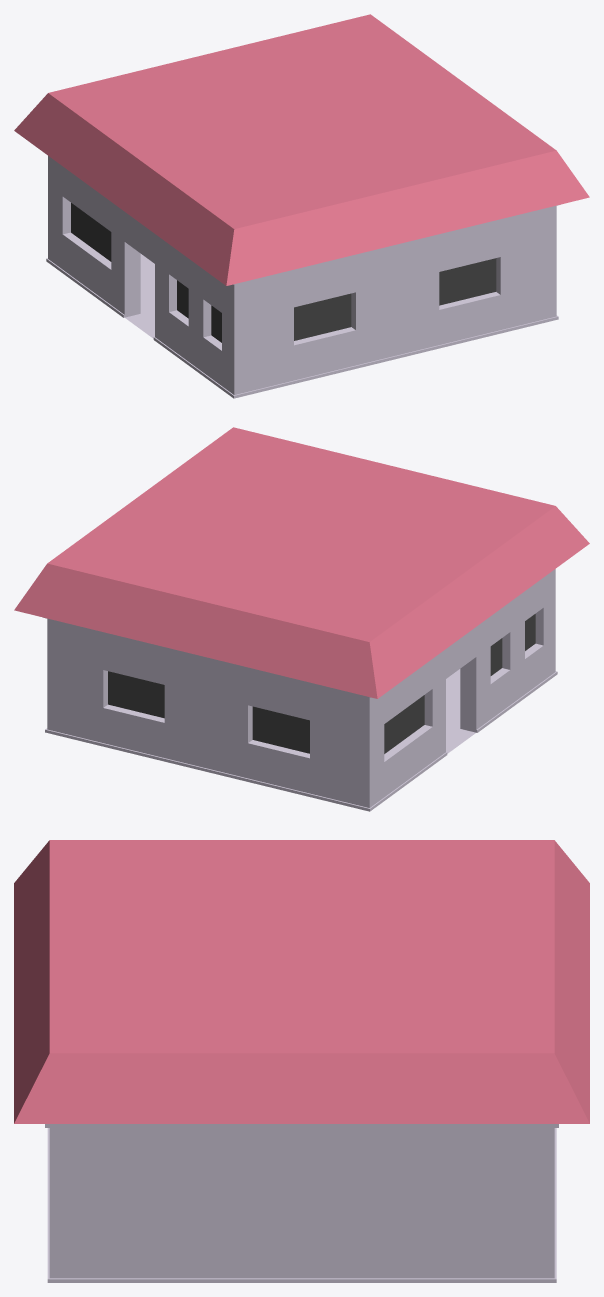
The model's file is small_house.fbx.
3 renders of one model, top to bottom at view 1: azimuth 30°, elevation 25°; view 2: azimuth 150°, elevation 25°; view 3: azimuth 270°, elevation 25°, orthographic. The views are drawn at different scales.
Visible parts, largest first — view 1: main_houseSmall; view 2: main_houseSmall; view 3: main_houseSmall.
Part boxes in pixels (<box>): main_houseSmall: <box>14,14,589,398</box>; main_houseSmall: <box>14,427,589,811</box>; main_houseSmall: <box>14,840,589,1282</box>.
Bounding box in the file's own units: 9.02 × 4 × 9.13.
